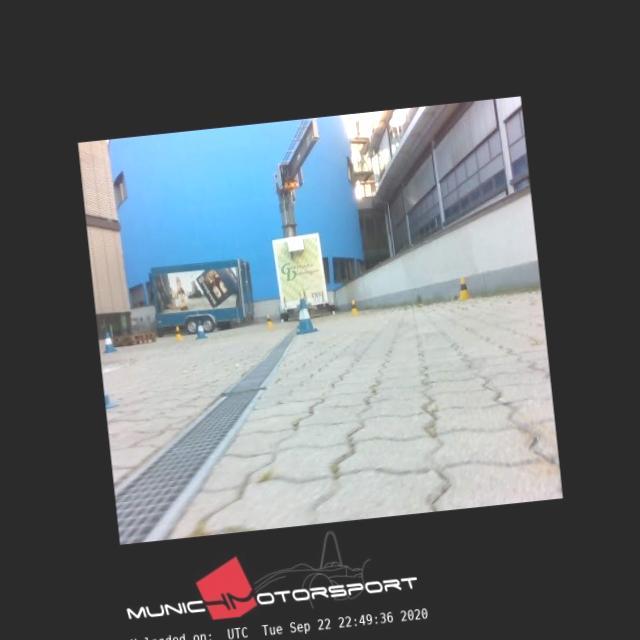blue_cone: (292, 298, 318, 334), (101, 332, 116, 352), (194, 320, 208, 339)
yellow_cone: (456, 278, 470, 300), (349, 299, 359, 315), (173, 326, 183, 339), (265, 314, 273, 328)
